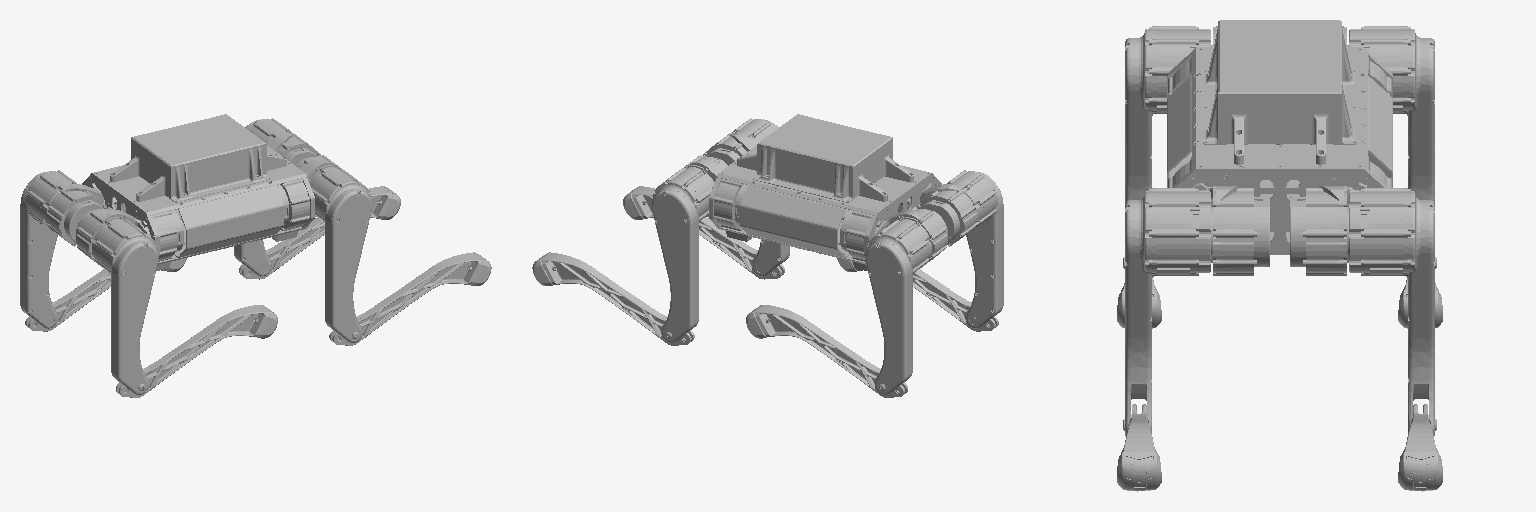
URDF robot description (urdf-v2-2):
<?xml version="1.0" encoding="utf-8"?>
<!-- This URDF was automatically created by SolidWorks to URDF Exporter! Originally created by Stephen Brawner (brawner@gmail.com) 
     Commit Version: 1.6.0-4-g7f85cfe  Build Version: 1.6.7995.38578
     For more information, please see http://wiki.ros.org/sw_urdf_exporter -->
<robot
  name="urdf-v2-2">
  <link
    name="base_link">
    <inertial>
      <origin
        xyz="8.7637E-10 -1.4324E-10 -0.021594"
        rpy="0 0 0" />
      <mass
        value="5.7993" />
      <inertia
        ixx="0.010063"
        ixy="-7.4354E-09"
        ixz="-6.0677E-12"
        iyy="0.015103"
        iyz="4.7666E-11"
        izz="0.020866" />
    </inertial>
    <visual>
      <origin
        xyz="0 0 0"
        rpy="0 0 0" />
      <geometry>
        <mesh
          filename="package://urdf-v2-2/meshes/base_link.STL" />
      </geometry>
      <material
        name="">
        <color
          rgba="0.75294 0.75294 0.75294 1" />
      </material>
    </visual>
    <collision>
      <origin
        xyz="0 0 0"
        rpy="0 0 0" />
      <geometry>
        <mesh
          filename="package://urdf-v2-2/meshes/base_link.STL" />
      </geometry>
    </collision>
  </link>
  <link
    name="fl_abad_link">
    <inertial>
      <origin
        xyz="0.042078 -0.024479 6.3482E-08"
        rpy="0 0 0" />
      <mass
        value="0.92886" />
      <inertia
        ixx="0.00049446"
        ixy="5.9311E-06"
        ixz="1.2866E-08"
        iyy="0.00075143"
        iyz="6.7955E-10"
        izz="0.0005481" />
    </inertial>
    <visual>
      <origin
        xyz="0 0 0"
        rpy="0 0 0" />
      <geometry>
        <mesh
          filename="package://urdf-v2-2/meshes/fl_abad_link.STL" />
      </geometry>
      <material
        name="">
        <color
          rgba="0.75294 0.75294 0.75294 1" />
      </material>
    </visual>
    <collision>
      <origin
        xyz="0 0 0"
        rpy="0 0 0" />
      <geometry>
        <mesh
          filename="package://urdf-v2-2/meshes/fl_abad_link.STL" />
      </geometry>
    </collision>
  </link>
  <joint
    name="fl_abad_joint"
    type="revolute">
    <origin
      xyz="0.13323 0.071 -0.050115"
      rpy="0 0 0" />
    <parent
      link="base_link" />
    <child
      link="fl_abad_link" />
    <axis
      xyz="1 0 0" />
    <limit
      lower="-0.79"
      upper="0.79"
      effort="0"
      velocity="0" />
  </joint>
  <link
    name="fl_hip_link">
    <inertial>
      <origin
        xyz="-0.0029512722087468 0.0553508012448952 -0.0264119852981311"
        rpy="0 0 0" />
      <mass
        value="1.25750624804615" />
      <inertia
        ixx="0.00214930949855705"
        ixy="4.40956202881263E-07"
        ixz="-0.00012108484885238"
        iyy="0.00246108793235535"
        iyz="9.42960291590098E-06"
        izz="0.000570934024110762" />
    </inertial>
    <visual>
      <origin
        xyz="0 0 0"
        rpy="0 0 0" />
      <geometry>
        <mesh
          filename="package://urdf-v2-2/meshes/fl_hip_link.STL" />
      </geometry>
      <material
        name="">
        <color
          rgba="0.752941176470588 0.752941176470588 0.752941176470588 1" />
      </material>
    </visual>
    <collision>
      <origin
        xyz="0 0 0"
        rpy="0 0 0" />
      <geometry>
        <mesh
          filename="package://urdf-v2-2/meshes/fl_hip_link.STL" />
      </geometry>
    </collision>
  </link>
  <joint
    name="fl_hip_joint"
    type="revolute">
    <origin
      xyz="0.05877 -0.01225 0"
      rpy="0 0 0" />
    <parent
      link="fl_abad_link" />
    <child
      link="fl_hip_link" />
    <axis
      xyz="0 1 0" />
    <limit
      lower="-1.74"
      upper="3.31"
      effort="0"
      velocity="0" />
  </joint>
  <link
    name="fl_knee_link">
    <inertial>
      <origin
        xyz="0.015776 3.4272E-08 -0.094656"
        rpy="0 0 0" />
      <mass
        value="0.16891" />
      <inertia
        ixx="0.0011426"
        ixy="2.4462E-10"
        ixz="0.00018241"
        iyy="0.0011885"
        iyz="5.5669E-10"
        izz="5.6498E-05" />
    </inertial>
    <visual>
      <origin
        xyz="0 0 0"
        rpy="0 0 0" />
      <geometry>
        <mesh
          filename="package://urdf-v2-2/meshes/fl_knee_link.STL" />
      </geometry>
      <material
        name="">
        <color
          rgba="0.75294 0.75294 0.75294 1" />
      </material>
    </visual>
    <collision>
      <origin
        xyz="0 0 0"
        rpy="0 0 0" />
      <geometry>
        <mesh
          filename="package://urdf-v2-2/meshes/fl_knee_link.STL" />
      </geometry>
    </collision>
  </link>
  <joint
    name="fl_knee_joint"
    type="revolute">
    <origin
      xyz="0 0.08215 -0.213"
      rpy="0 0 0" />
    <parent
      link="fl_hip_link" />
    <child
      link="fl_knee_link" />
    <axis
      xyz="0 1 0" />
    <limit
      lower="-2.67"
      upper="-0.79"
      effort="0"
      velocity="0" />
  </joint>
  <link
    name="fl_foot_link">
    <inertial>
      <origin
        xyz="-0.0069127 -2.3801E-06 -0.0065607"
        rpy="0 0 0" />
      <mass
        value="0.038902" />
      <inertia
        ixx="9.5493E-06"
        ixy="-2.2414E-10"
        ixz="1.8442E-06"
        iyy="7.8792E-06"
        iyz="-2.2924E-10"
        izz="1.0019E-05" />
    </inertial>
    <visual>
      <origin
        xyz="0 0 0"
        rpy="0 0 0" />
      <geometry>
        <mesh
          filename="package://urdf-v2-2/meshes/fl_foot_link.STL" />
      </geometry>
      <material
        name="">
        <color
          rgba="0.75294 0.75294 0.75294 1" />
      </material>
    </visual>
    <collision>
      <origin
        xyz="0 0 0"
        rpy="0 0 0" />
      <geometry>
        <mesh
          filename="package://urdf-v2-2/meshes/fl_foot_link.STL" />
      </geometry>
    </collision>
  </link>
  <joint
    name="fl_foot_joinf"
    type="fixed">
    <origin
      xyz="0.023578 0 -0.225"
      rpy="0 0 0" />
    <parent
      link="fl_knee_link" />
    <child
      link="fl_foot_link" />
    <axis
      xyz="0 0 0" />
  </joint>
  <link
    name="fr_abad_link">
    <inertial>
      <origin
        xyz="0.0420781692920181 0.02447877018404 -6.34822089895515E-08"
        rpy="0 0 0" />
      <mass
        value="0.928856365893587" />
      <inertia
        ixx="0.000494458255195155"
        ixy="-5.93109443853958E-06"
        ixz="-1.28655033307399E-08"
        iyy="0.00075142781972285"
        iyz="6.79550427965167E-10"
        izz="0.000548097550389102" />
    </inertial>
    <visual>
      <origin
        xyz="0 0 0"
        rpy="0 0 0" />
      <geometry>
        <mesh
          filename="package://urdf-v2-2/meshes/fr_abad_link.STL" />
      </geometry>
      <material
        name="">
        <color
          rgba="0.752941176470588 0.752941176470588 0.752941176470588 1" />
      </material>
    </visual>
    <collision>
      <origin
        xyz="0 0 0"
        rpy="0 0 0" />
      <geometry>
        <mesh
          filename="package://urdf-v2-2/meshes/fr_abad_link.STL" />
      </geometry>
    </collision>
  </link>
  <joint
    name="fr_abad_joint"
    type="revolute">
    <origin
      xyz="0.13323 -0.071 -0.050115"
      rpy="0 0 0" />
    <parent
      link="base_link" />
    <child
      link="fr_abad_link" />
    <axis
      xyz="1 0 0" />
    <limit
      lower="-0.79"
      upper="0.79"
      effort="0"
      velocity="0" />
  </joint>
  <link
    name="fr_hip_link">
    <inertial>
      <origin
        xyz="-0.00295127600653761 -0.0553505296691561 -0.0264119215015597"
        rpy="0 0 0" />
      <mass
        value="1.25749406115706" />
      <inertia
        ixx="0.00214930268727188"
        ixy="-4.40008235011441E-07"
        ixz="-0.000121089509845766"
        iyy="0.0024610842094822"
        iyz="-9.4281865332296E-06"
        izz="0.00057093730696713" />
    </inertial>
    <visual>
      <origin
        xyz="0 0 0"
        rpy="0 0 0" />
      <geometry>
        <mesh
          filename="package://urdf-v2-2/meshes/fr_hip_link.STL" />
      </geometry>
      <material
        name="">
        <color
          rgba="0.752941176470588 0.752941176470588 0.752941176470588 1" />
      </material>
    </visual>
    <collision>
      <origin
        xyz="0 0 0"
        rpy="0 0 0" />
      <geometry>
        <mesh
          filename="package://urdf-v2-2/meshes/fr_hip_link.STL" />
      </geometry>
    </collision>
  </link>
  <joint
    name="fr_hip_joint"
    type="revolute">
    <origin
      xyz="0.05877 0.01225 0"
      rpy="0 0 0" />
    <parent
      link="fr_abad_link" />
    <child
      link="fr_hip_link" />
    <axis
      xyz="0 1 0" />
    <limit
      lower="-1.74"
      upper="3.31"
      effort="0"
      velocity="0" />
  </joint>
  <link
    name="fr_knee_link">
    <inertial>
      <origin
        xyz="0.0157755275951559 3.42715062509602E-08 -0.0946563799349885"
        rpy="0 0 0" />
      <mass
        value="0.168909137591324" />
      <inertia
        ixx="0.00114264801809999"
        ixy="2.44618694654258E-10"
        ixz="0.000182407238717795"
        iyy="0.00118852208037432"
        iyz="5.56685644351706E-10"
        izz="5.64976757542648E-05" />
    </inertial>
    <visual>
      <origin
        xyz="0 0 0"
        rpy="0 0 0" />
      <geometry>
        <mesh
          filename="package://urdf-v2-2/meshes/fr_knee_link.STL" />
      </geometry>
      <material
        name="">
        <color
          rgba="0.752941176470588 0.752941176470588 0.752941176470588 1" />
      </material>
    </visual>
    <collision>
      <origin
        xyz="0 0 0"
        rpy="0 0 0" />
      <geometry>
        <mesh
          filename="package://urdf-v2-2/meshes/fr_knee_link.STL" />
      </geometry>
    </collision>
  </link>
  <joint
    name="fr_knee_joint"
    type="revolute">
    <origin
      xyz="0 -0.08215 -0.213"
      rpy="0 0 0" />
    <parent
      link="fr_hip_link" />
    <child
      link="fr_knee_link" />
    <axis
      xyz="0 1 0" />
    <limit
      lower="-2.67"
      upper="-0.79"
      effort="0"
      velocity="0" />
  </joint>
  <link
    name="fr_foot_link">
    <inertial>
      <origin
        xyz="-0.00533475077061968 -1.79093260403718E-06 -0.00656074867502132"
        rpy="0 0 0" />
      <mass
        value="0.0389023220231465" />
      <inertia
        ixx="9.54931281293162E-06"
        ixy="-2.24143885745536E-10"
        ixz="1.84420622702918E-06"
        iyy="7.87920842448453E-06"
        iyz="-2.29243200515484E-10"
        izz="1.00191527344223E-05" />
    </inertial>
    <visual>
      <origin
        xyz="0 0 0"
        rpy="0 0 0" />
      <geometry>
        <mesh
          filename="package://urdf-v2-2/meshes/fr_foot_link.STL" />
      </geometry>
      <material
        name="">
        <color
          rgba="0.752941176470588 0.752941176470588 0.752941176470588 1" />
      </material>
    </visual>
    <collision>
      <origin
        xyz="0 0 0"
        rpy="0 0 0" />
      <geometry>
        <mesh
          filename="package://urdf-v2-2/meshes/fr_foot_link.STL" />
      </geometry>
    </collision>
  </link>
  <joint
    name="fr_foot_joint"
    type="fixed">
    <origin
      xyz="0.0219999999999999 0 -0.225"
      rpy="0 0 0" />
    <parent
      link="fr_knee_link" />
    <child
      link="fr_foot_link" />
    <axis
      xyz="0 0 0" />
  </joint>
  <link
    name="rl_abad_link">
    <inertial>
      <origin
        xyz="-0.0420781692531116 -0.0244787701623019 -6.34093415066705E-08"
        rpy="0 0 0" />
      <mass
        value="0.928856367851297" />
      <inertia
        ixx="0.000494458255829647"
        ixy="-5.93109415377524E-06"
        ixz="1.28644275061935E-08"
        iyy="0.000751427821800477"
        iyz="-6.7861349270445E-10"
        izz="0.000548097549898437" />
    </inertial>
    <visual>
      <origin
        xyz="0 0 0"
        rpy="0 0 0" />
      <geometry>
        <mesh
          filename="package://urdf-v2-2/meshes/rl_abad_link.STL" />
      </geometry>
      <material
        name="">
        <color
          rgba="0.752941176470588 0.752941176470588 0.752941176470588 1" />
      </material>
    </visual>
    <collision>
      <origin
        xyz="0 0 0"
        rpy="0 0 0" />
      <geometry>
        <mesh
          filename="package://urdf-v2-2/meshes/rl_abad_link.STL" />
      </geometry>
    </collision>
  </link>
  <joint
    name="rl_abad_joint"
    type="revolute">
    <origin
      xyz="-0.13323 0.071 -0.050115"
      rpy="0 0 0" />
    <parent
      link="base_link" />
    <child
      link="rl_abad_link" />
    <axis
      xyz="1 0 0" />
    <limit
      lower="-0.79"
      upper="0.79"
      effort="0"
      velocity="0" />
  </joint>
  <link
    name="rl_hip_link">
    <inertial>
      <origin
        xyz="-0.00295127219985072 0.0553508012651615 -0.0264119853084"
        rpy="0 0 0" />
      <mass
        value="1.2575062472706" />
      <inertia
        ixx="0.002149309498134"
        ixy="4.40956484449098E-07"
        ixz="-0.000121084848677264"
        iyy="0.00246108793182742"
        iyz="9.42960307045417E-06"
        izz="0.000570934023383744" />
    </inertial>
    <visual>
      <origin
        xyz="0 0 0"
        rpy="0 0 0" />
      <geometry>
        <mesh
          filename="package://urdf-v2-2/meshes/rl_hip_link.STL" />
      </geometry>
      <material
        name="">
        <color
          rgba="0.752941176470588 0.752941176470588 0.752941176470588 1" />
      </material>
    </visual>
    <collision>
      <origin
        xyz="0 0 0"
        rpy="0 0 0" />
      <geometry>
        <mesh
          filename="package://urdf-v2-2/meshes/rl_hip_link.STL" />
      </geometry>
    </collision>
  </link>
  <joint
    name="rl_hip_joint"
    type="revolute">
    <origin
      xyz="-0.05877 -0.01225 0"
      rpy="0 0 0" />
    <parent
      link="rl_abad_link" />
    <child
      link="rl_hip_link" />
    <axis
      xyz="0 1 0" />
    <limit
      lower="-1.74"
      upper="3.31"
      effort="0"
      velocity="0" />
  </joint>
  <link
    name="rl_knee_link">
    <inertial>
      <origin
        xyz="0.0157755275951558 3.42715063827992E-08 -0.0946563799349867"
        rpy="0 0 0" />
      <mass
        value="0.168909137591316" />
      <inertia
        ixx="0.00114264801809902"
        ixy="2.44618692569378E-10"
        ixz="0.000182407238715603"
        iyy="0.00118852208035357"
        iyz="5.56685649298466E-10"
        izz="5.64976757319346E-05" />
    </inertial>
    <visual>
      <origin
        xyz="0 0 0"
        rpy="0 0 0" />
      <geometry>
        <mesh
          filename="package://urdf-v2-2/meshes/rl_knee_link.STL" />
      </geometry>
      <material
        name="">
        <color
          rgba="0.752941176470588 0.752941176470588 0.752941176470588 1" />
      </material>
    </visual>
    <collision>
      <origin
        xyz="0 0 0"
        rpy="0 0 0" />
      <geometry>
        <mesh
          filename="package://urdf-v2-2/meshes/rl_knee_link.STL" />
      </geometry>
    </collision>
  </link>
  <joint
    name="rl_knee_joint"
    type="revolute">
    <origin
      xyz="0 0.08215 -0.213"
      rpy="0 0 0" />
    <parent
      link="rl_hip_link" />
    <child
      link="rl_knee_link" />
    <axis
      xyz="0 1 0" />
    <limit
      lower="-2.67"
      upper="-0.79"
      effort="0"
      velocity="0" />
  </joint>
  <link
    name="rl_foot_link">
    <inertial>
      <origin
        xyz="-0.00566277667023725 -2.38009014508211E-06 -0.00693809930669181"
        rpy="0 0 0" />
      <mass
        value="0.0389023220231459" />
      <inertia
        ixx="9.5493128129314E-06"
        ixy="-2.24143885796023E-10"
        ixz="1.84420622702916E-06"
        iyy="7.87920842448442E-06"
        iyz="-2.29243200428639E-10"
        izz="1.0019152734422E-05" />
    </inertial>
    <visual>
      <origin
        xyz="0 0 0"
        rpy="0 0 0" />
      <geometry>
        <mesh
          filename="package://urdf-v2-2/meshes/rl_foot_link.STL" />
      </geometry>
      <material
        name="">
        <color
          rgba="0.752941176470588 0.752941176470588 0.752941176470588 1" />
      </material>
    </visual>
    <collision>
      <origin
        xyz="0 0 0"
        rpy="0 0 0" />
      <geometry>
        <mesh
          filename="package://urdf-v2-2/meshes/rl_foot_link.STL" />
      </geometry>
    </collision>
  </link>
  <joint
    name="rl_foot_joint"
    type="fixed">
    <origin
      xyz="0.022 0 -0.225"
      rpy="0 0 0" />
    <parent
      link="rl_knee_link" />
    <child
      link="rl_foot_link" />
    <axis
      xyz="0 0 0" />
  </joint>
  <link
    name="rr_abad_link">
    <inertial>
      <origin
        xyz="-0.0420781692973412 0.0244787701898436 6.34871614377253E-08"
        rpy="0 0 0" />
      <mass
        value="0.928856366079835" />
      <inertia
        ixx="0.000494458255385036"
        ixy="5.93109447406545E-06"
        ixz="-1.28654564117821E-08"
        iyy="0.000751427819863048"
        iyz="-6.79641783779976E-10"
        izz="0.000548097550476743" />
    </inertial>
    <visual>
      <origin
        xyz="0 0 0"
        rpy="0 0 0" />
      <geometry>
        <mesh
          filename="package://urdf-v2-2/meshes/rr_abad_link.STL" />
      </geometry>
      <material
        name="">
        <color
          rgba="0.752941176470588 0.752941176470588 0.752941176470588 1" />
      </material>
    </visual>
    <collision>
      <origin
        xyz="0 0 0"
        rpy="0 0 0" />
      <geometry>
        <mesh
          filename="package://urdf-v2-2/meshes/rr_abad_link.STL" />
      </geometry>
    </collision>
  </link>
  <joint
    name="rr_abad_joint"
    type="revolute">
    <origin
      xyz="-0.13323 -0.071 -0.050115"
      rpy="0 0 0" />
    <parent
      link="base_link" />
    <child
      link="rr_abad_link" />
    <axis
      xyz="1 0 0" />
    <limit
      lower="-0.79"
      upper="0.79"
      effort="0"
      velocity="0" />
  </joint>
  <link
    name="rr_hip_link">
    <inertial>
      <origin
        xyz="-0.00295127679931298 -0.055350529729996 -0.026411921870828"
        rpy="0 0 0" />
      <mass
        value="1.25749406287706" />
      <inertia
        ixx="0.00214930268681864"
        ixy="-4.39987018540257E-07"
        ixz="-0.000121089510032065"
        iyy="0.00246108420957282"
        iyz="-9.42817590134894E-06"
        izz="0.000570937307193574" />
    </inertial>
    <visual>
      <origin
        xyz="0 0 0"
        rpy="0 0 0" />
      <geometry>
        <mesh
          filename="package://urdf-v2-2/meshes/rr_hip_link.STL" />
      </geometry>
      <material
        name="">
        <color
          rgba="0.752941176470588 0.752941176470588 0.752941176470588 1" />
      </material>
    </visual>
    <collision>
      <origin
        xyz="0 0 0"
        rpy="0 0 0" />
      <geometry>
        <mesh
          filename="package://urdf-v2-2/meshes/rr_hip_link.STL" />
      </geometry>
    </collision>
  </link>
  <joint
    name="rr_hip_joint"
    type="revolute">
    <origin
      xyz="-0.05877 0.01225 0"
      rpy="0 0 0" />
    <parent
      link="rr_abad_link" />
    <child
      link="rr_hip_link" />
    <axis
      xyz="0 1 0" />
    <limit
      lower="-1.74"
      upper="3.31"
      effort="0"
      velocity="0" />
  </joint>
  <link
    name="rr_knee_link">
    <inertial>
      <origin
        xyz="0.0157755275951563 3.42715060636101E-08 -0.0946563799349878"
        rpy="0 0 0" />
      <mass
        value="0.168909137591319" />
      <inertia
        ixx="0.00114264801809904"
        ixy="2.44618693893183E-10"
        ixz="0.000182407238718271"
        iyy="0.00118852208034888"
        iyz="5.56685644130333E-10"
        izz="5.64976757281815E-05" />
    </inertial>
    <visual>
      <origin
        xyz="0 0 0"
        rpy="0 0 0" />
      <geometry>
        <mesh
          filename="package://urdf-v2-2/meshes/rr_knee_link.STL" />
      </geometry>
      <material
        name="">
        <color
          rgba="0.752941176470588 0.752941176470588 0.752941176470588 1" />
      </material>
    </visual>
    <collision>
      <origin
        xyz="0 0 0"
        rpy="0 0 0" />
      <geometry>
        <mesh
          filename="package://urdf-v2-2/meshes/rr_knee_link.STL" />
      </geometry>
    </collision>
  </link>
  <joint
    name="rr_knee_joint"
    type="revolute">
    <origin
      xyz="0 -0.08215 -0.213"
      rpy="0 0 0" />
    <parent
      link="rr_hip_link" />
    <child
      link="rr_knee_link" />
    <axis
      xyz="0 1 0" />
    <limit
      lower="-2.67"
      upper="-0.79"
      effort="0"
      velocity="0" />
  </joint>
  <link
    name="rr_foot_link">
    <inertial>
      <origin
        xyz="-0.00566277667054906 -1.79093222103105E-06 -0.00693809930624234"
        rpy="0 0 0" />
      <mass
        value="0.0389023220259562" />
      <inertia
        ixx="9.54931281301923E-06"
        ixy="-2.2414373730696E-10"
        ixz="1.8442062269997E-06"
        iyy="7.87920842474891E-06"
        iyz="-2.29243183987163E-10"
        izz="1.00191527347673E-05" />
    </inertial>
    <visual>
      <origin
        xyz="0 0 0"
        rpy="0 0 0" />
      <geometry>
        <mesh
          filename="package://urdf-v2-2/meshes/rr_foot_link.STL" />
      </geometry>
      <material
        name="">
        <color
          rgba="0.752941176470588 0.752941176470588 0.752941176470588 1" />
      </material>
    </visual>
    <collision>
      <origin
        xyz="0 0 0"
        rpy="0 0 0" />
      <geometry>
        <mesh
          filename="package://urdf-v2-2/meshes/rr_foot_link.STL" />
      </geometry>
    </collision>
  </link>
  <joint
    name="rr_foot_joint"
    type="fixed">
    <origin
      xyz="0.022 0 -0.225"
      rpy="0 0 0" />
    <parent
      link="rr_knee_link" />
    <child
      link="rr_foot_link" />
    <axis
      xyz="0 0 0" />
  </joint>
</robot>

--- What the picture shows (computed from the rendered views, not written in the file) ---
Views: 3 orthographic renders of the robot side by side, from view 1: azimuth 30°, elevation 25°; view 2: azimuth 150°, elevation 25°; view 3: azimuth 270°, elevation 25°.
Model urdf-v2-2 with 17 links and 16 joints (12 revolute, 4 fixed), rooted at base_link, posed all joints at 0 but 4 set to mid-range because 0 is outside their limits (fl_knee_joint = -1.73, fr_knee_joint = -1.73, rl_knee_joint = -1.73, rr_knee_joint = -1.73).
Links seen in each view (by area): view 1: base_link, rr_hip_link, fr_hip_link, rl_hip_link, rr_knee_link, fr_knee_link, rl_abad_link, fl_knee_link, fl_hip_link, rl_knee_link, rr_abad_link, fl_abad_link (+1 smaller); view 2: base_link, rl_hip_link, fl_hip_link, rr_hip_link, rl_knee_link, fl_knee_link, rr_abad_link, fr_knee_link, fr_hip_link, rr_knee_link, rl_abad_link, fr_abad_link (+1 smaller); view 3: base_link, fl_hip_link, fr_hip_link, rl_hip_link, rr_hip_link, fl_abad_link, fr_abad_link, fl_foot_link, fr_foot_link, fl_knee_link, fr_knee_link, rl_foot_link (+1 smaller).
Boxes of the visible links, <box> form: base_link: <box>82,114,314,270</box>; rr_hip_link: <box>92,219,158,394</box>; fr_hip_link: <box>309,167,371,342</box>; rl_hip_link: <box>20,170,76,328</box>; rr_knee_link: <box>116,305,269,397</box>; fr_knee_link: <box>329,253,482,345</box>; rl_abad_link: <box>46,183,106,246</box>; fl_knee_link: <box>239,186,391,279</box>; fl_hip_link: <box>234,118,291,276</box>; rl_knee_link: <box>25,262,171,331</box>; rr_abad_link: <box>76,207,150,267</box>; fl_abad_link: <box>266,133,320,165</box>; base_link: <box>709,114,941,270</box>; rl_hip_link: <box>865,219,931,394</box>; fl_hip_link: <box>652,167,714,342</box>; rr_hip_link: <box>947,170,1003,328</box>; rl_knee_link: <box>754,305,907,397</box>; fl_knee_link: <box>541,253,694,345</box>; rr_abad_link: <box>917,183,977,246</box>; fr_knee_link: <box>632,186,784,279</box>; fr_hip_link: <box>732,118,789,276</box>; rr_knee_link: <box>852,262,998,331</box>; rl_abad_link: <box>873,207,947,267</box>; fr_abad_link: <box>703,133,757,165</box>; base_link: <box>1167,20,1392,262</box>; fl_hip_link: <box>1347,188,1436,435</box>; fr_hip_link: <box>1123,188,1212,435</box>; rl_hip_link: <box>1347,26,1436,268</box>; rr_hip_link: <box>1123,26,1212,268</box>; fl_abad_link: <box>1290,183,1366,275</box>; fr_abad_link: <box>1193,183,1269,275</box>; fl_foot_link: <box>1398,452,1442,491</box>; fr_foot_link: <box>1117,452,1161,491</box>; fl_knee_link: <box>1402,404,1438,453</box>; fr_knee_link: <box>1121,404,1157,453</box>; rl_foot_link: <box>1398,290,1442,328</box>.
Size in the robot's own frame: 0.6726 by 0.327 by 0.3385 metres.
17 mesh visuals loaded from 17 distinct referenced files (17 binary STL).
